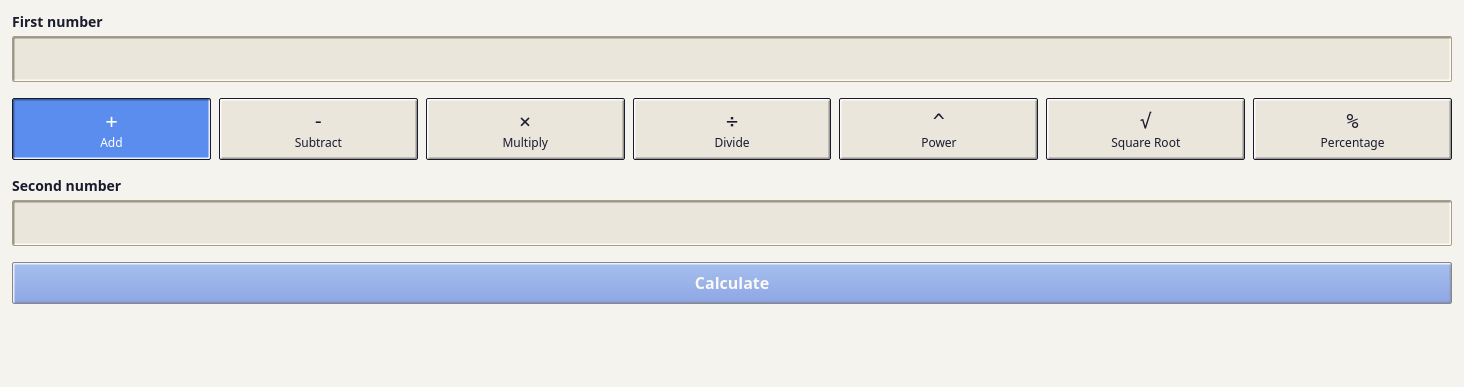
Test: Calculator › calculating › sends the numbers and shows the result
Type "6" into the field labelled "First number".
click(732, 59); type("6")  # box [12,36,1452,82]
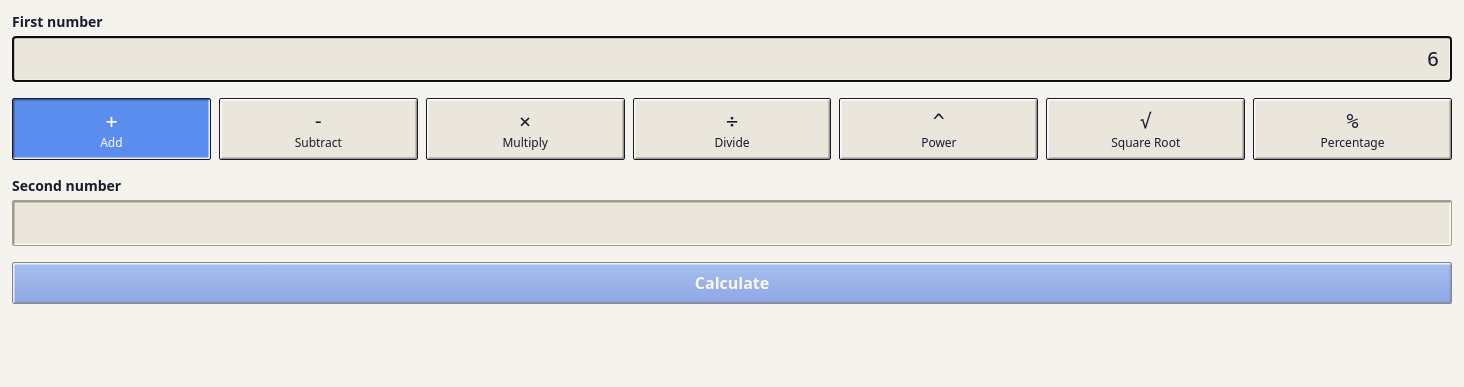
Type "3" into the field labelled "Second number".
click(732, 223); type("3")  # box [12,200,1452,246]
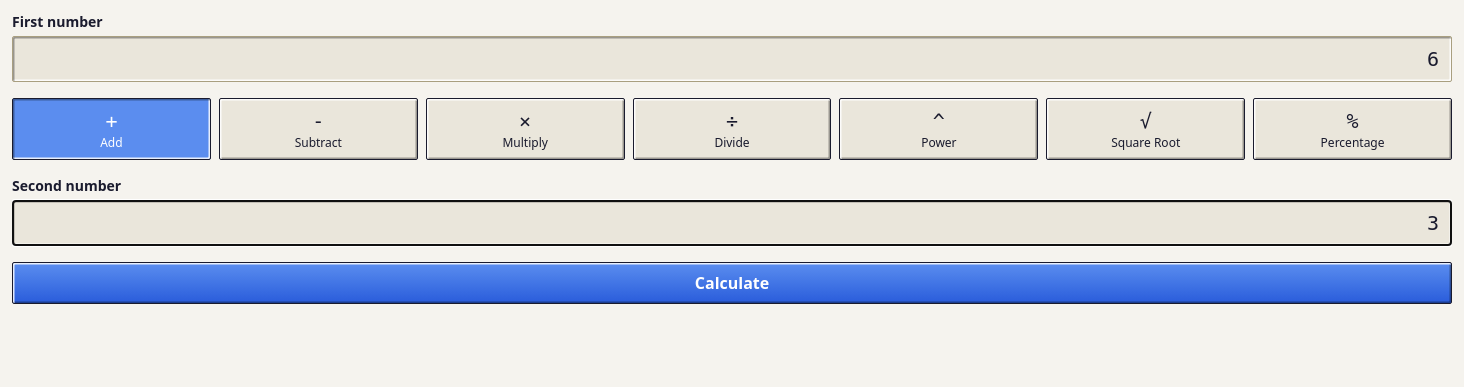
Click the button "Calculate".
click(732, 283)  # box [12,262,1452,304]
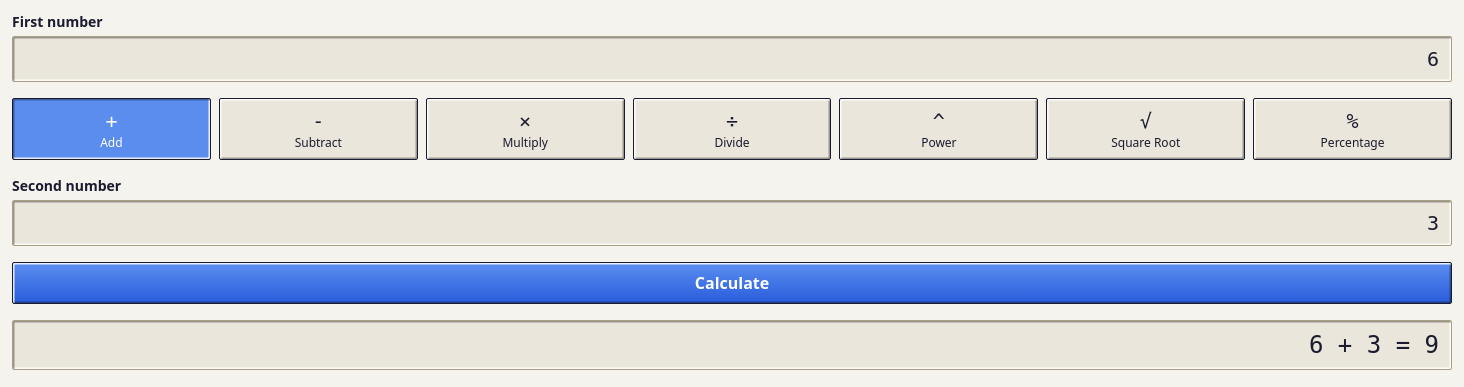
Result: the message reads "6 + 3 = 9" at [1309,331,1439,359]
